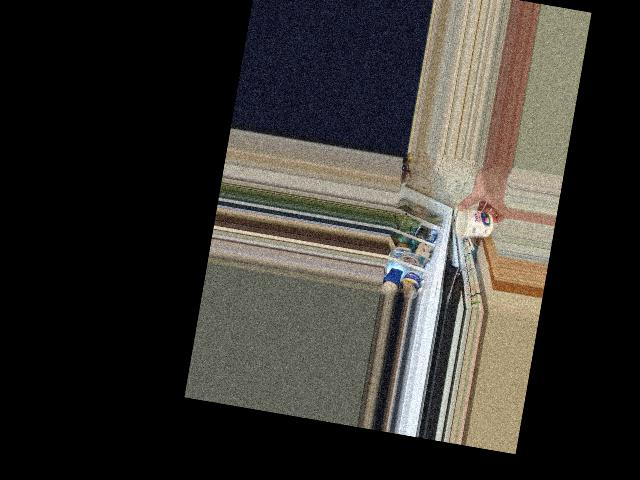cotage: (449, 200, 497, 246)
